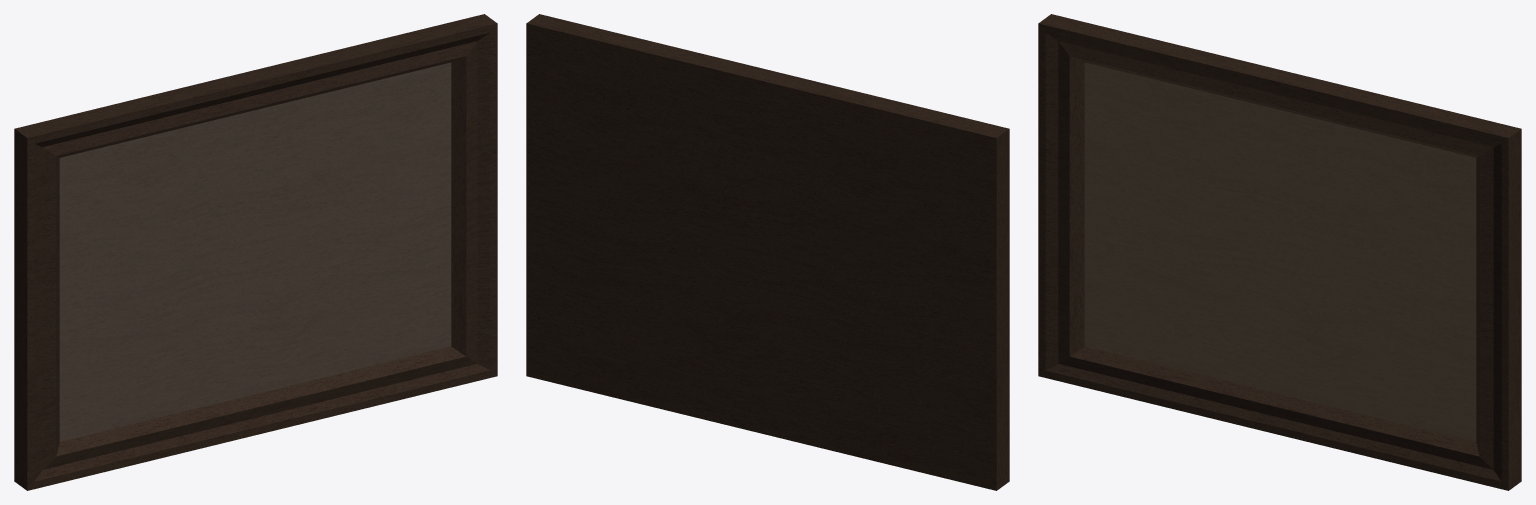
File: frame.glb
The picture shows the model from 3 angles, left to right: view 1: azimuth 30°, elevation 25°; view 2: azimuth 150°, elevation 25°; view 3: azimuth 330°, elevation 25°; orthographic projection.
Visible parts, largest first — view 1: Frame; view 2: Frame; view 3: Frame.
Part boxes in pixels (left/top/right/bottom): Frame: left=14, top=14, right=497, bottom=490; Frame: left=526, top=14, right=1009, bottom=490; Frame: left=1038, top=14, right=1521, bottom=490.
Bounding box in the file's own units: 2.79 × 2 × 0.1325.
2 materials, 2 textured.
